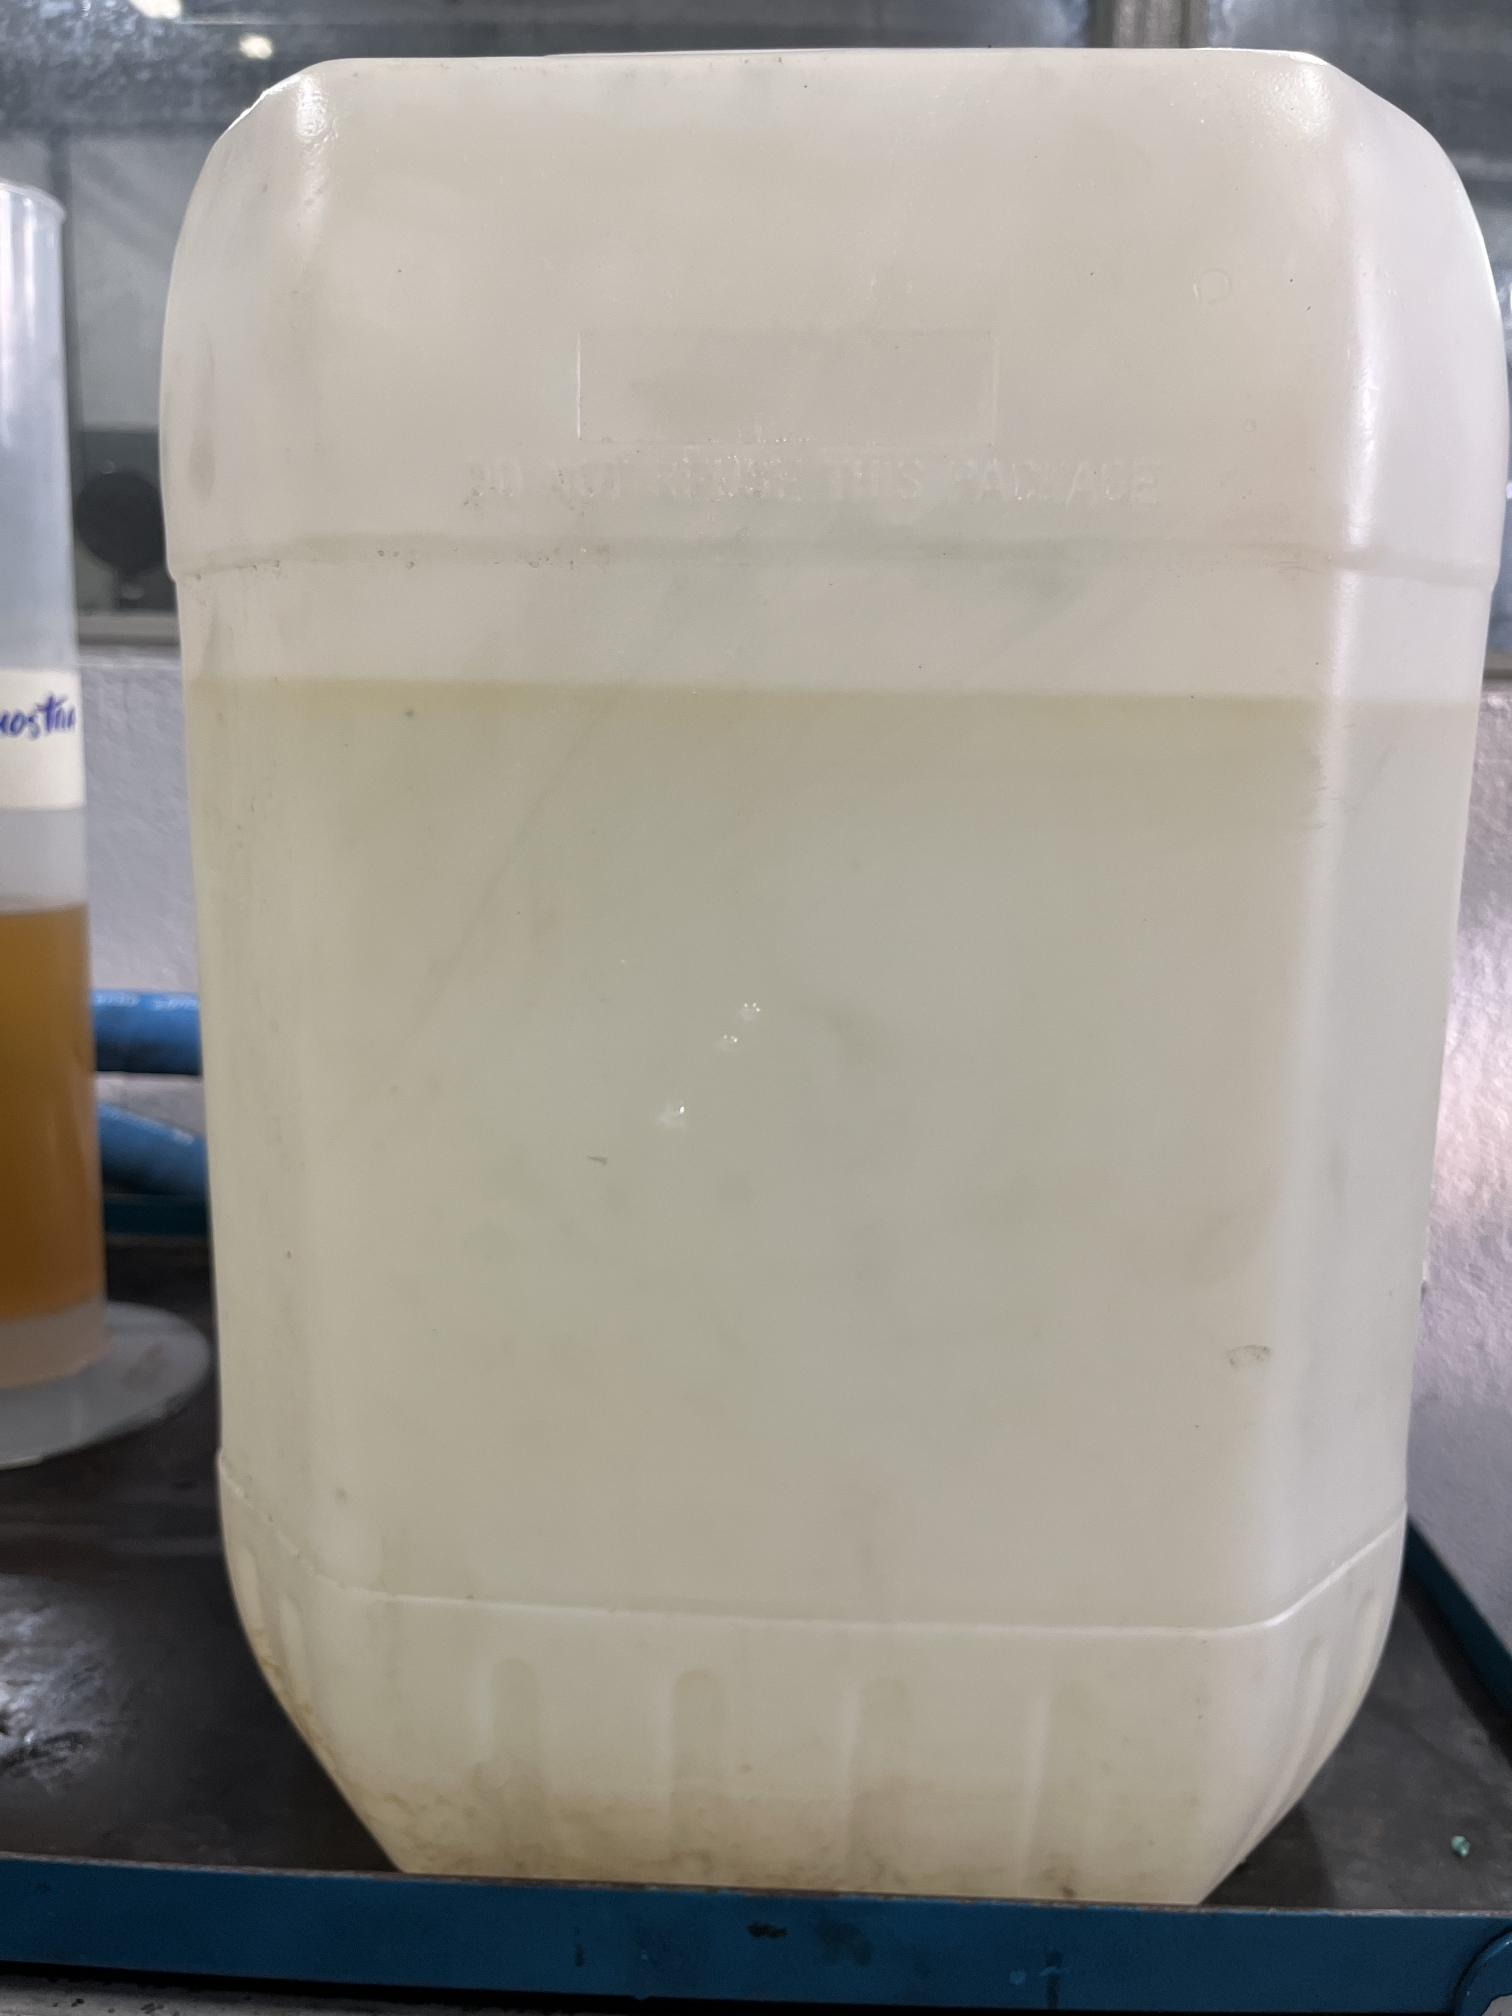Galao: (140, 56, 1471, 1949)
